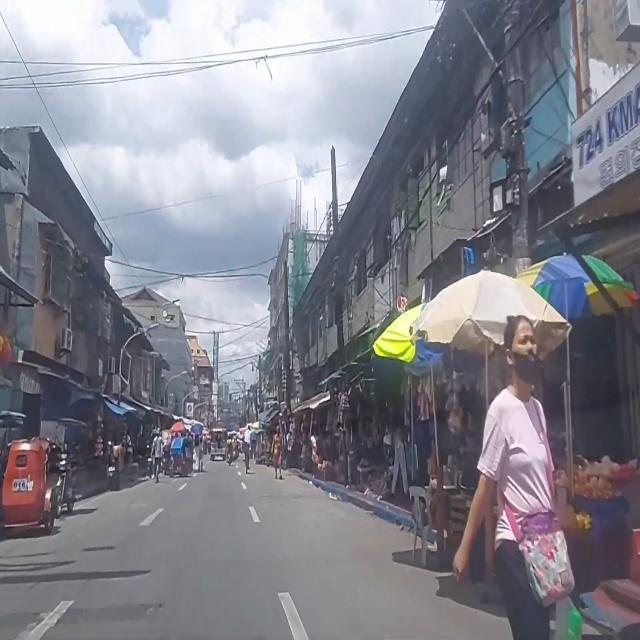bike: (242, 426, 251, 474)
jeepney: (211, 428, 227, 460)
motorcycle: (106, 443, 120, 490), (227, 436, 234, 464), (231, 436, 238, 462)
tricycle: (0, 411, 55, 537), (41, 418, 84, 516), (165, 436, 192, 476)
